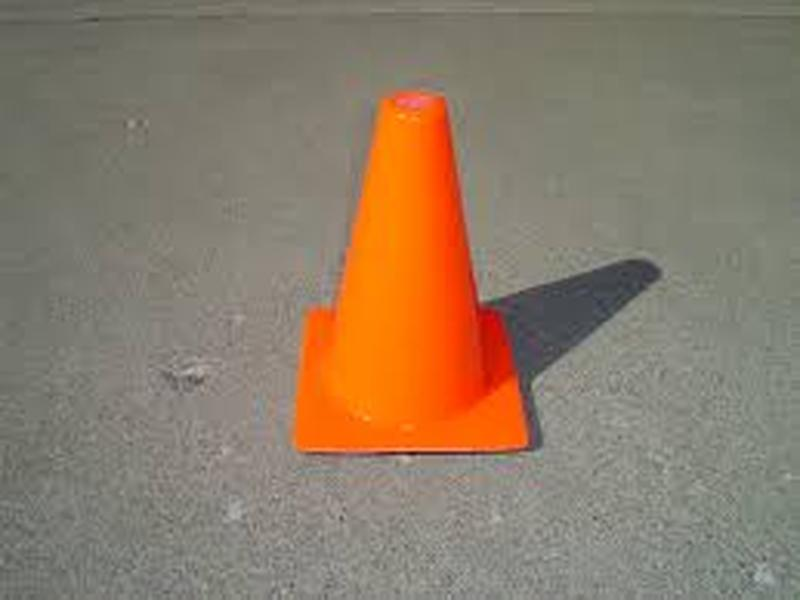Cone1: (295, 88, 533, 456)
